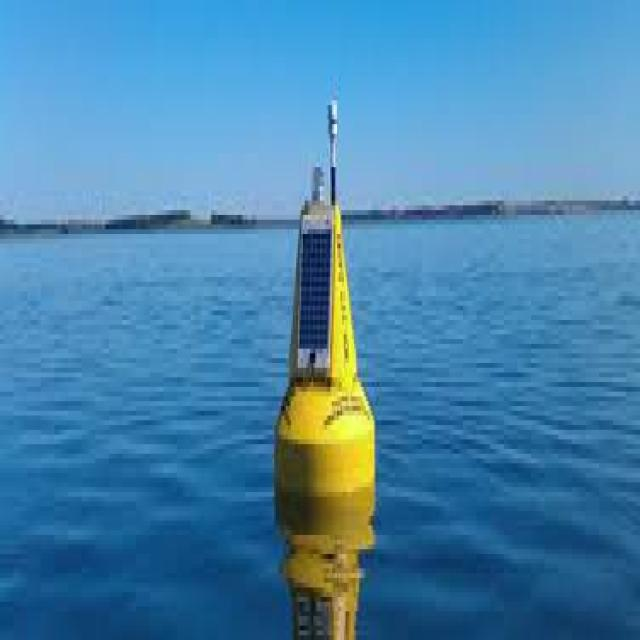buoy: (259, 53, 393, 557)
